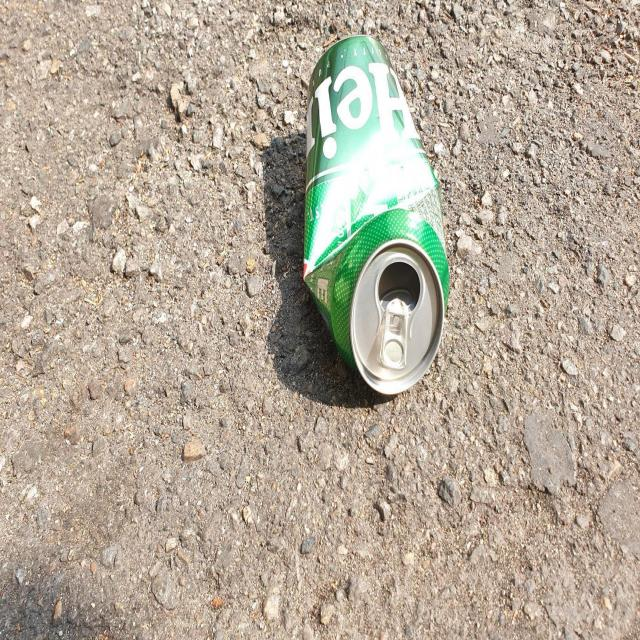can: (303, 34, 450, 394)
